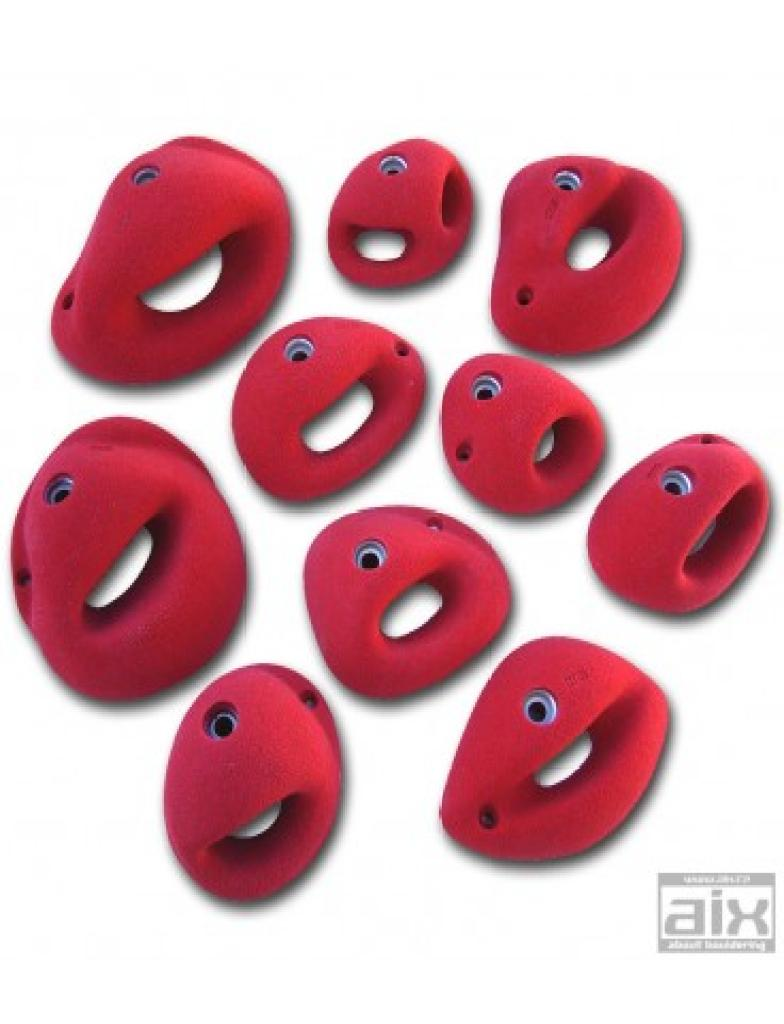pocket: (13, 417, 245, 697), (53, 137, 290, 383), (441, 636, 667, 858), (164, 666, 339, 900), (305, 510, 509, 697), (490, 156, 680, 354), (232, 317, 424, 500), (588, 434, 767, 612), (441, 356, 603, 514), (328, 139, 471, 285)
